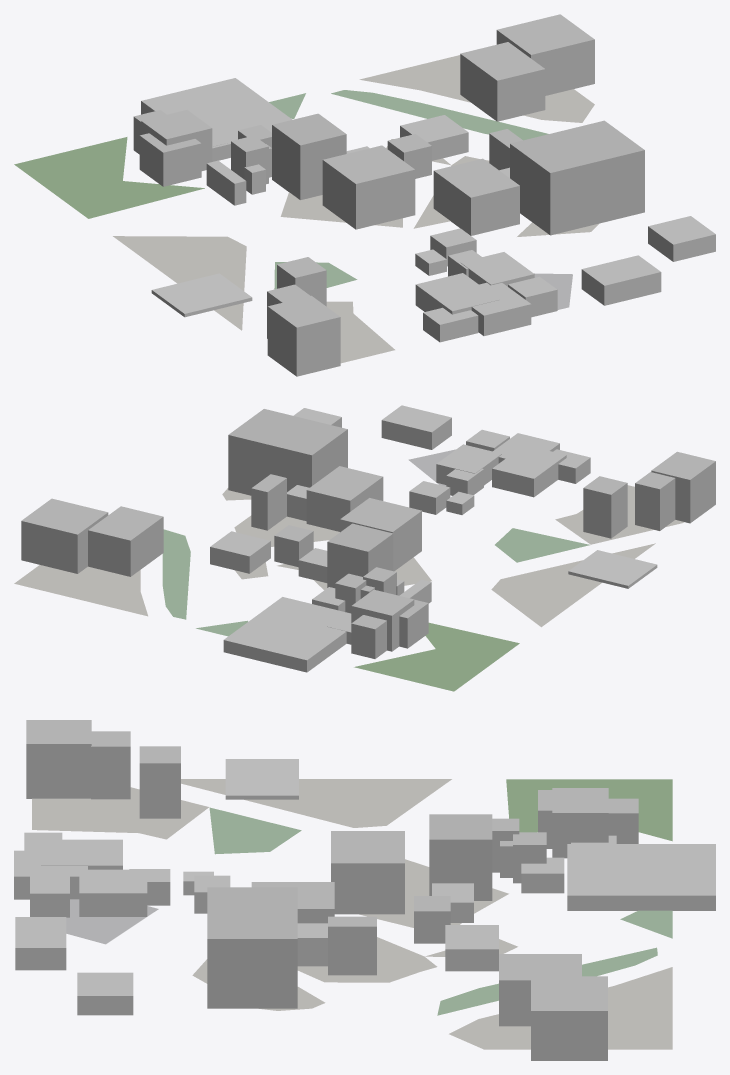
Rendered from 132_101_mid.glb.
The picture shows the model from 3 angles, top to bottom: view 1: azimuth 30°, elevation 25°; view 2: azimuth 150°, elevation 25°; view 3: azimuth 270°, elevation 25°; orthographic projection. The views are drawn at different scales.
Size of the model in its own units: 551 by 61.38 by 548.
